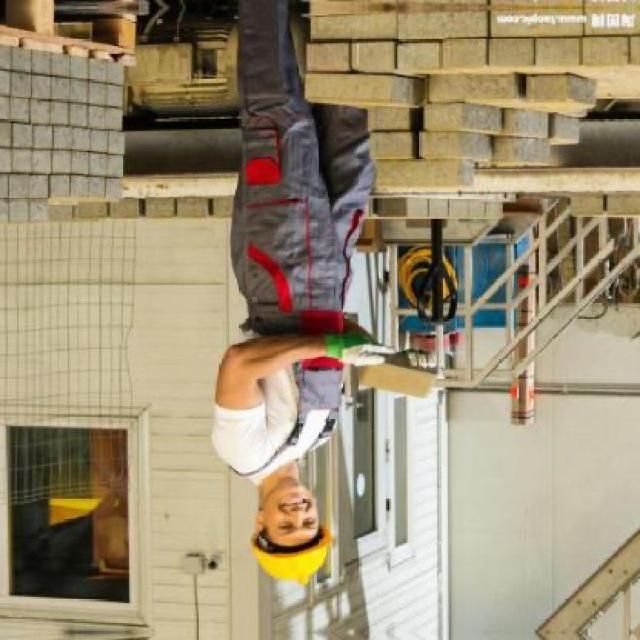con casco: (235, 465, 368, 576)
